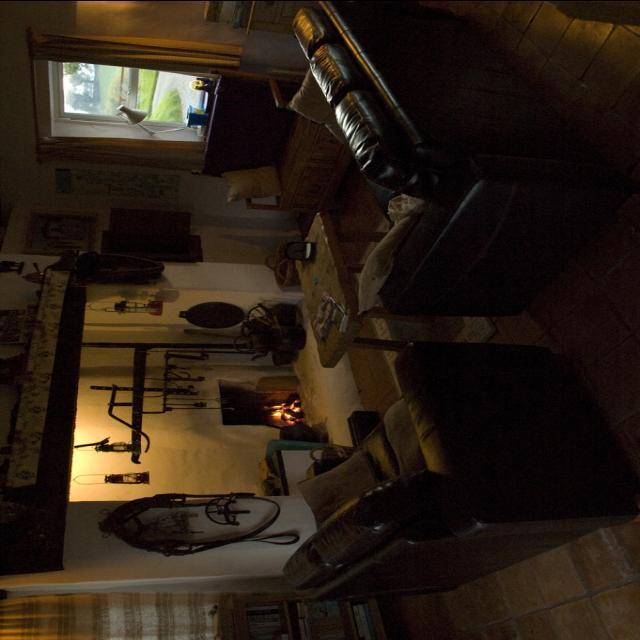Fire: (264, 397, 306, 427)
